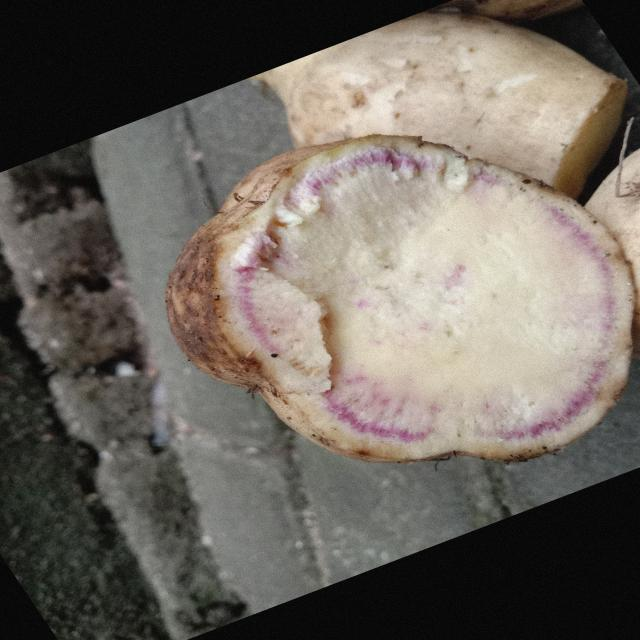Healthy Sweet Potato: (210, 136, 632, 461)
